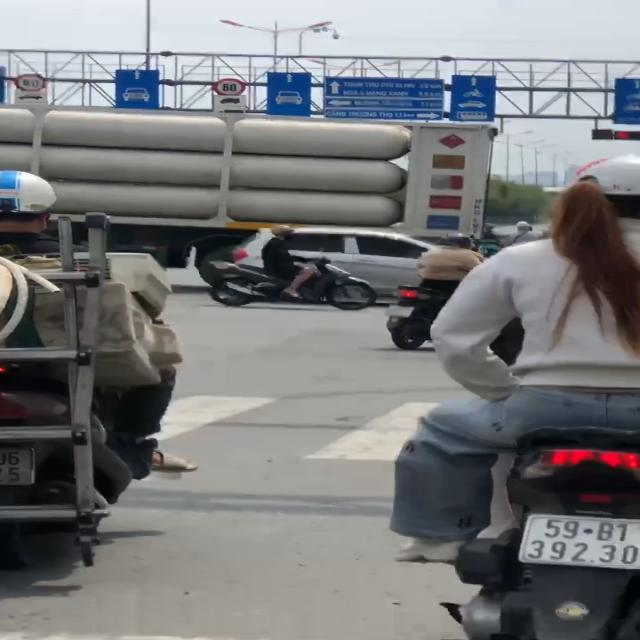Bien bao toc do toi da cho phep: (210, 75, 251, 98)
